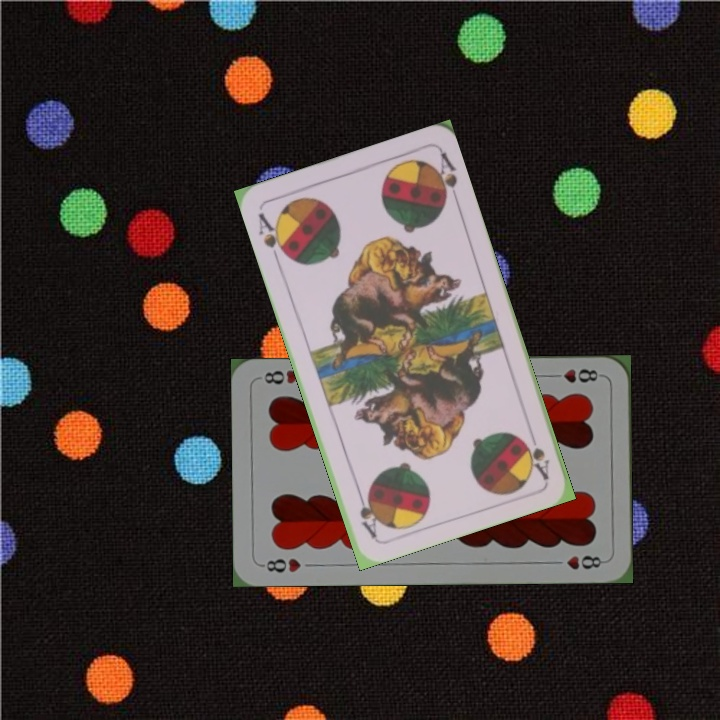H8: (546, 365, 605, 385), (257, 554, 303, 575)
SA: (254, 208, 291, 265), (519, 424, 553, 482)
